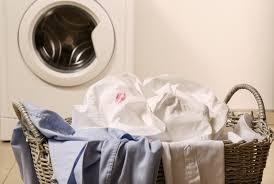lipstick: (112, 88, 129, 105)
